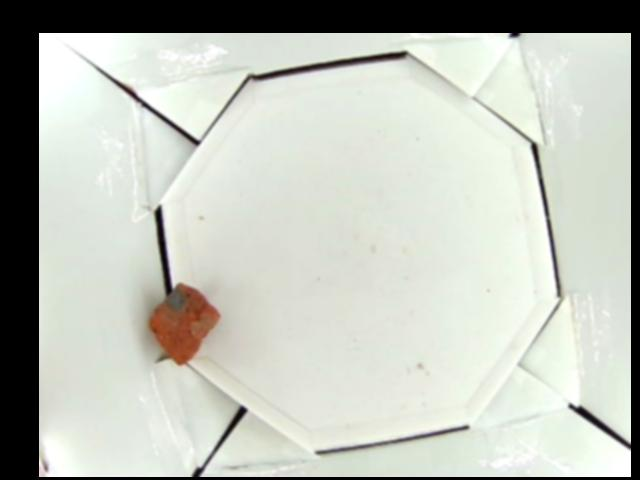Brisk: (148, 283, 219, 366)
